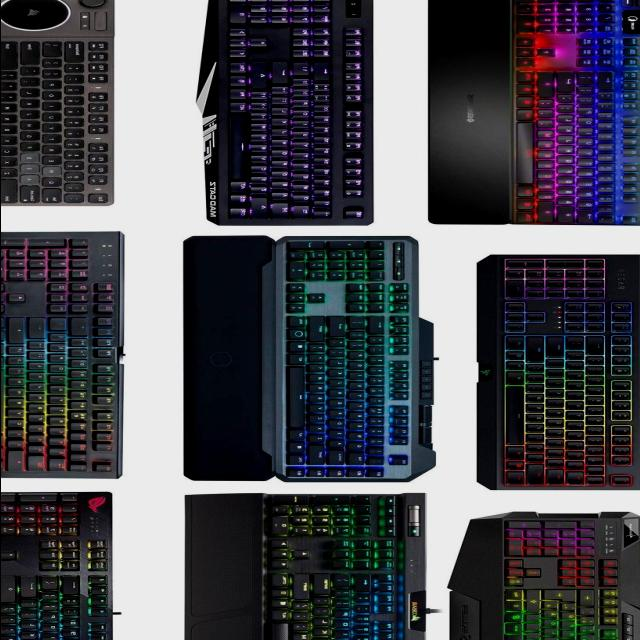keyboard: (192, 0, 378, 228), (272, 235, 438, 484), (473, 253, 640, 494), (0, 231, 126, 481), (506, 0, 640, 228), (251, 491, 430, 640), (445, 509, 640, 640), (0, 1, 120, 209), (0, 489, 124, 640)
